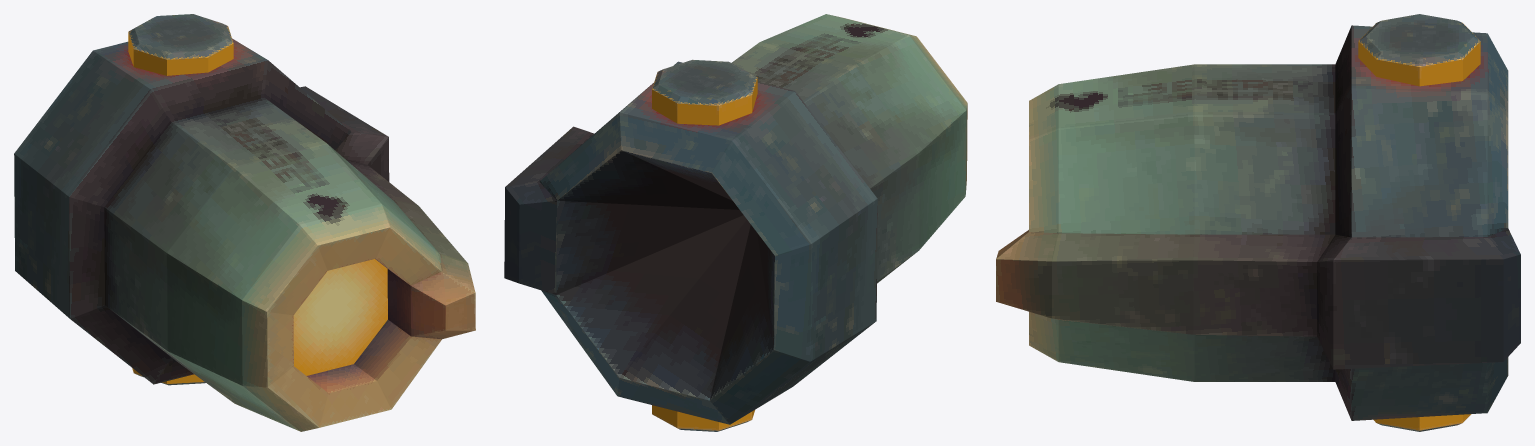
Rendered from item_alienblaster.glb.
The picture shows the model from 3 angles, left to right: view 1: azimuth 30°, elevation 25°; view 2: azimuth 150°, elevation 25°; view 3: azimuth 270°, elevation 25°; orthographic projection. The views are drawn at different scales.
Parts seen in each view (by area): view 1: pCylinder4; view 2: pCylinder4; view 3: pCylinder4.
Part boxes in pixels (bbox=[...]): pCylinder4: bbox=[14, 14, 475, 431]; pCylinder4: bbox=[504, 14, 967, 431]; pCylinder4: bbox=[996, 14, 1520, 431].
Bounding box in the file's own units: 0.2883 × 0.2931 × 0.374.
Materials: 1 (1 with a texture image).
